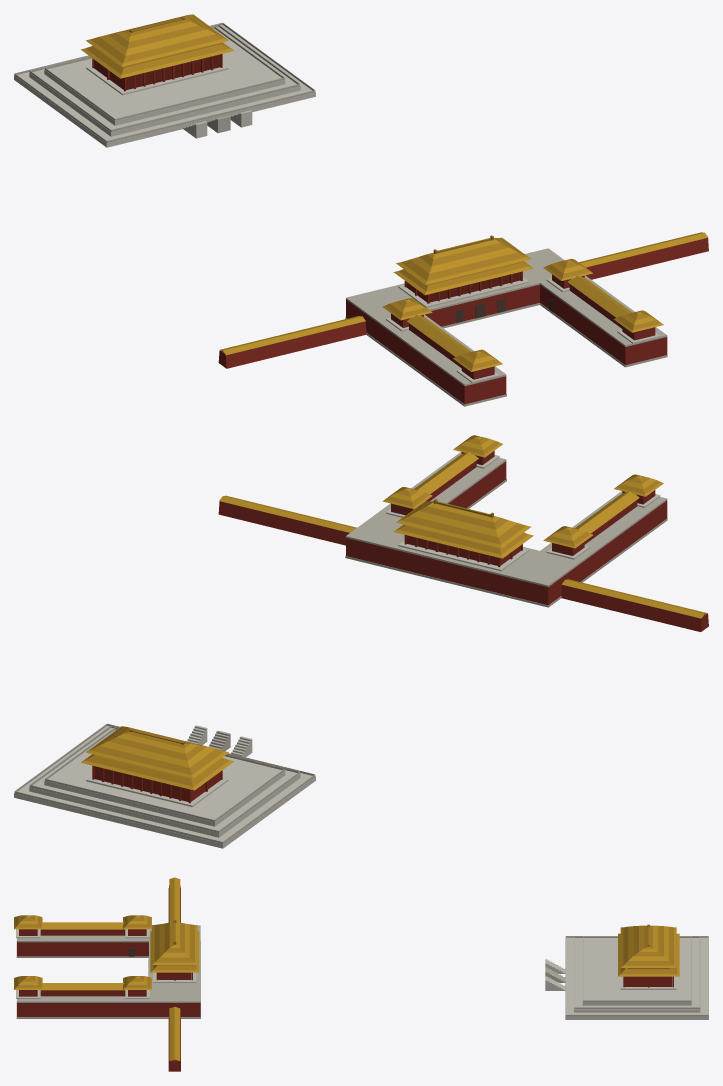
Rendered from forbidden-city.glb.
The picture shows the model from 3 angles, top to bottom: view 1: azimuth 30°, elevation 25°; view 2: azimuth 150°, elevation 25°; view 3: azimuth 270°, elevation 25°; orthographic projection. The views are drawn at different scales.
Parts seen in each view (by area): view 1: forbidden-city; view 2: forbidden-city; view 3: forbidden-city.
Boxes of the visible parts, left/top/right/bottom form: forbidden-city: left=14, top=14, right=708, bottom=406; forbidden-city: left=14, top=435, right=708, bottom=848; forbidden-city: left=14, top=877, right=708, bottom=1071.
Size of the model in its own units: 300 by 37.96 by 484.
